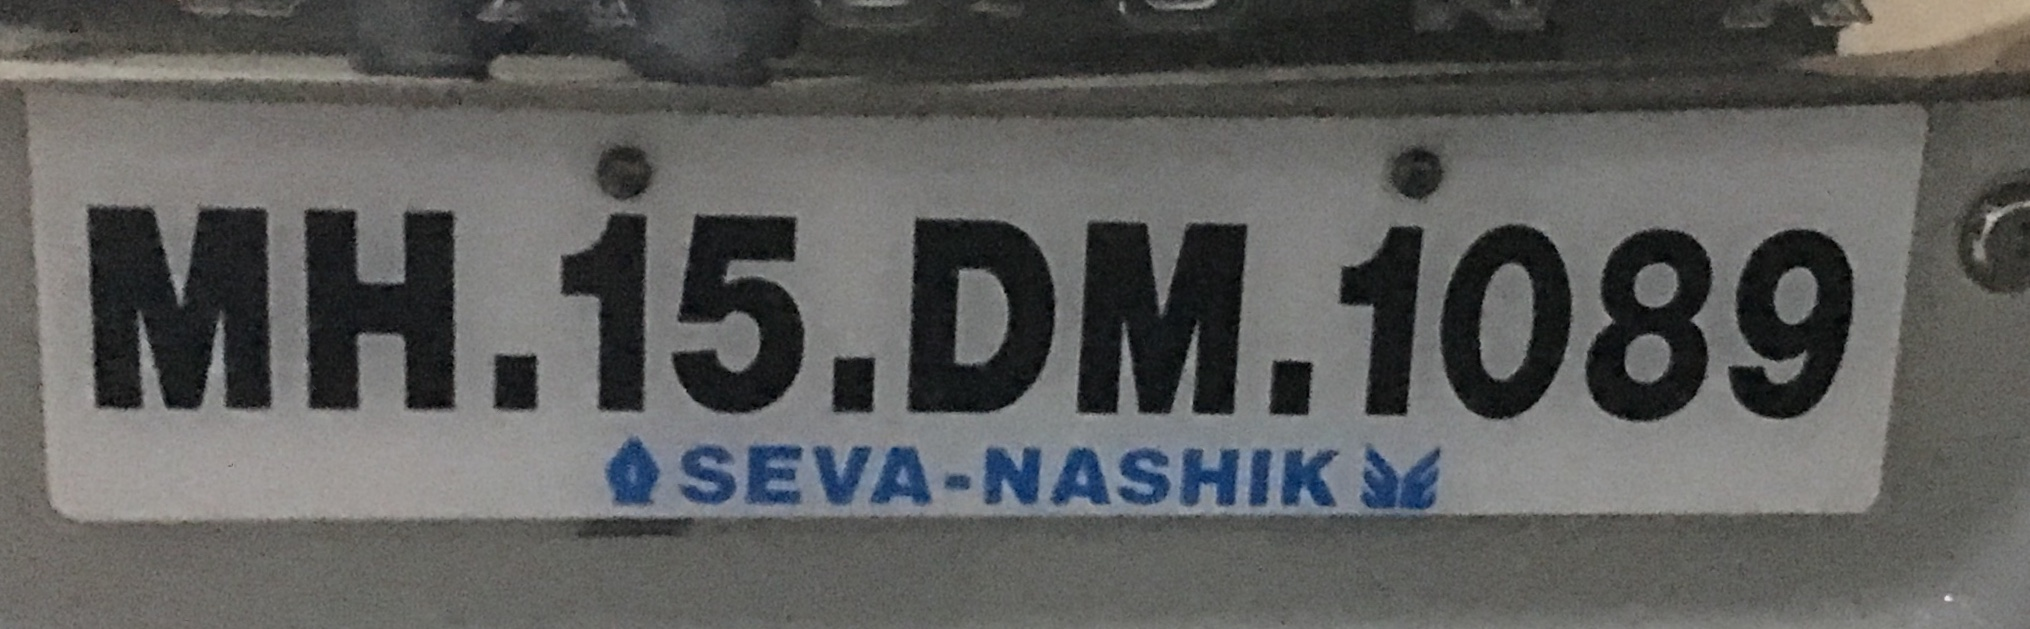numberplate: (15, 74, 1935, 534)
